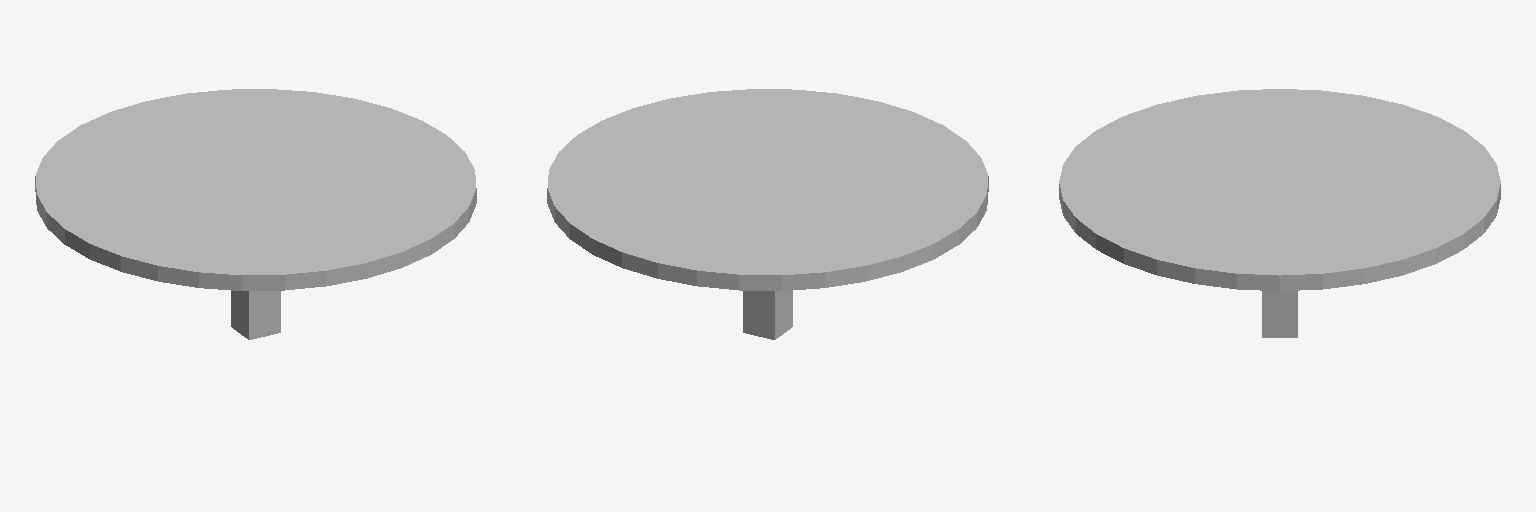
File: big_central_table.obj
The picture shows the model from 3 angles: view 1: azimuth 30°, elevation 25°; view 2: azimuth 150°, elevation 25°; view 3: azimuth 270°, elevation 25°; orthographic projection.
Parts seen in each view (by area): view 1: Cylinder, Cube.001; view 2: Cylinder, Cube.001; view 3: Cylinder, Cube.001.
Part boxes in pixels (bbox=[...]): Cylinder: bbox=[35, 89, 476, 290]; Cube.001: bbox=[231, 290, 280, 339]; Cylinder: bbox=[547, 89, 988, 290]; Cube.001: bbox=[743, 290, 792, 339]; Cylinder: bbox=[1059, 89, 1500, 290]; Cube.001: bbox=[1262, 291, 1297, 337].
Bounding box in the file's own units: 6 × 2.21 × 6.